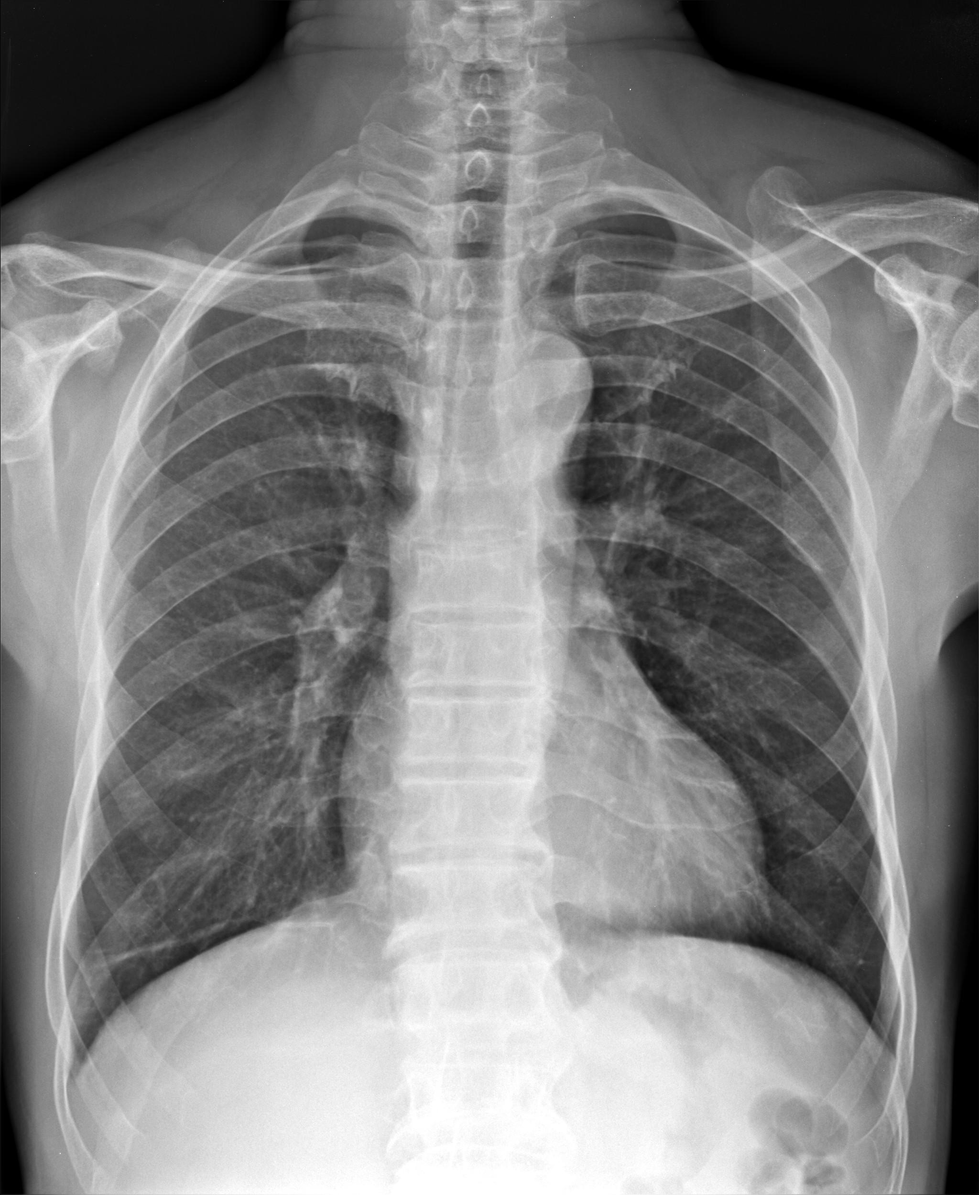Pulmonary fibrosis: (82, 908, 258, 975)
